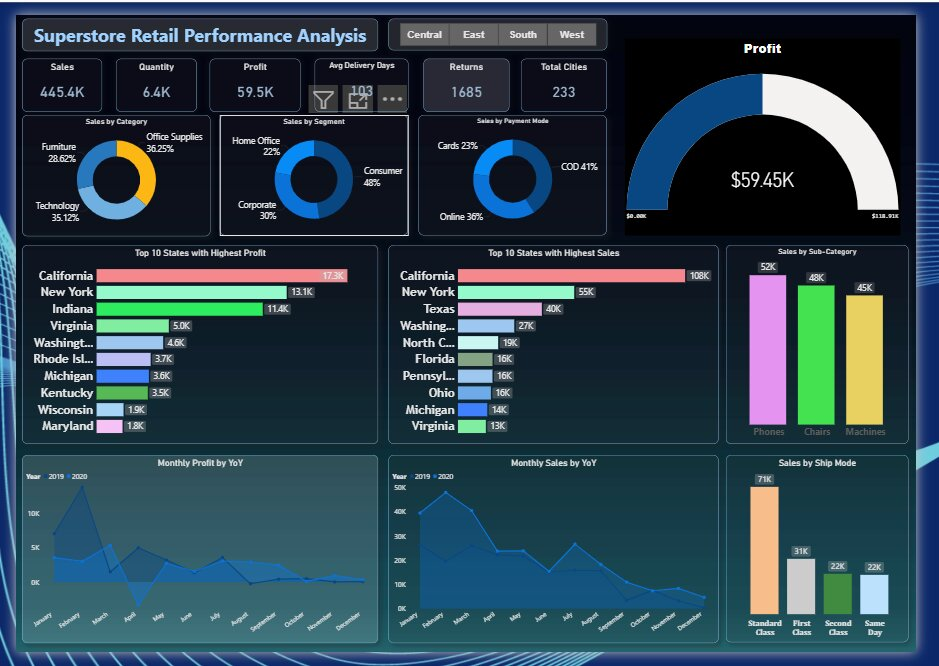

The page's visual inventory and layout, read from the dashboard file:
{"tool":"powerbi","page":{"name":"Dashboard","canvas":[2400,1700],"ordinal":0},"visuals":[{"type":"donutChart","title":"Sales by Category","fields":{"Category":["SuperStore_Sales_Dataset.Category"],"Y":["Sum(SuperStore_Sales_Dataset.Sales)"]},"box":[15.8,265.4,501.9,323.2],"z":0},{"type":"clusteredColumnChart","title":"Sales by Sub-Category","fields":{"Category":["SuperStore_Sales_Dataset.Sub-Category"],"Y":["Sum(SuperStore_Sales_Dataset.Sales)"]},"box":[1894.4,614.8,486.1,530.8],"z":1000},{"type":"clusteredColumnChart","title":"Sales by Ship Mode","fields":{"Category":["SuperStore_Sales_Dataset.Ship Mode"],"Y":["Sum(SuperStore_Sales_Dataset.Sales)"]},"box":[1894.4,1174.5,486.1,499.2],"z":2000},{"type":"areaChart","title":"Monthly Sales by YoY ","fields":{"Y":["Sum(SuperStore_Sales_Dataset.Sales)"],"Category":["SuperStore_Sales_Dataset.Order Date.Variation.Date Hierarchy.Month","SuperStore_Sales_Dataset.Order Date.Variation.Date Hierarchy.Day"],"Series":["SuperStore_Sales_Dataset.Order Date.Variation.Date Hierarchy.Year"]},"box":[993.2,1174.5,880.2,501.9],"z":3000},{"type":"areaChart","title":"Monthly Profit by YoY ","fields":{"Category":["SuperStore_Sales_Dataset.Order Date.Variation.Date Hierarchy.Month","SuperStore_Sales_Dataset.Order Date.Variation.Date Hierarchy.Day"],"Series":["SuperStore_Sales_Dataset.Order Date.Variation.Date Hierarchy.Year"],"Y":["Sum(SuperStore_Sales_Dataset.Profit)"]},"box":[15.8,1174.5,948.5,501.9],"z":4000},{"type":"donutChart","title":"Sales by Segment","fields":{"Category":["SuperStore_Sales_Dataset.Segment"],"Y":["Sum(SuperStore_Sales_Dataset.Sales)"]},"box":[543.9,268,501.9,320.6],"z":6000},{"type":"donutChart","title":"Sales by Payment Mode","fields":{"Category":["SuperStore_Sales_Dataset.Payment Mode"],"Y":["Sum(SuperStore_Sales_Dataset.Sales)"]},"box":[1074.7,268,501.9,320.6],"z":7000},{"type":"slicer","fields":{"Values":["SuperStore_Sales_Dataset.Region"]},"box":[993.2,10.5,583.3,84.1],"z":8000},{"type":"textbox","box":[15.8,10.5,948.5,86.7],"z":9000},{"type":"card","title":"Sales","fields":{"Values":["Sum(SuperStore_Sales_Dataset.Sales)"]},"box":[15.8,115.6,212.8,141.9],"z":10000},{"type":"card","title":"Quantity","fields":{"Values":["Sum(SuperStore_Sales_Dataset.Quantity)"]},"box":[268,115.6,215.5,141.9],"z":11000},{"type":"card","title":"Profit","fields":{"Values":["Sum(SuperStore_Sales_Dataset.Profit)"]},"box":[517.6,115.6,241.7,141.9],"z":12000},{"type":"card","title":"Avg Delivery Days","fields":{"Values":["Avg(SuperStore_Sales_Dataset.AvgDelivery)"]},"box":[796.1,115.6,249.6,141.9],"z":13000},{"type":"card","title":"Returns","fields":{"Values":["CountNonNull(SuperStore_Sales_Dataset.Returns)"]},"box":[1085.2,115.6,228.6,141.9],"z":14000},{"type":"card","title":"Total Cities","fields":{"Values":["Count(SuperStore_Sales_Dataset.City)"]},"box":[1347.9,115.6,228.6,141.9],"z":15000},{"type":"clusteredBarChart","title":"Top 10 States with Highest Sales","fields":{"Category":["SuperStore_Sales_Dataset.State"],"Y":["Sum(SuperStore_Sales_Dataset.Sales)"]},"box":[993.2,614.8,880.2,530.8],"z":16000},{"type":"clusteredBarChart","title":"Top 10 States with Highest Profit ","fields":{"Category":["SuperStore_Sales_Dataset.State"],"Y":["Sum(SuperStore_Sales_Dataset.Profit)"]},"box":[15.8,614.8,948.5,530.8],"z":17000},{"type":"gauge","title":"Profit","fields":{"Y":["Sum(SuperStore_Sales_Dataset.Profit)"]},"box":[1622.5,62.5,735,525],"z":17001}]}

Visuals, with their boxes in screenshot pixels (x1, y1, x2, y2), scaled from the page's 2400x1700 canvas onto the 939x666 screenshot:
"Sales by Category" donutChart: 6:104:203:231
"Sales by Sub-Category" clusteredColumnChart: 741:241:931:449
"Sales by Ship Mode" clusteredColumnChart: 741:460:931:656
"Monthly Sales by YoY " areaChart: 389:460:733:657
"Monthly Profit by YoY " areaChart: 6:460:377:657
"Sales by Segment" donutChart: 213:105:409:231
"Sales by Payment Mode" donutChart: 420:105:617:231
slicer - SuperStore_Sales_Dataset.Region: 389:4:617:37
textbox: 6:4:377:38
"Sales" card: 6:45:89:101
"Quantity" card: 105:45:189:101
"Profit" card: 203:45:297:101
"Avg Delivery Days" card: 311:45:409:101
"Returns" card: 425:45:514:101
"Total Cities" card: 527:45:617:101
"Top 10 States with Highest Sales" clusteredBarChart: 389:241:733:449
"Top 10 States with Highest Profit " clusteredBarChart: 6:241:377:449
"Profit" gauge: 635:24:922:230
